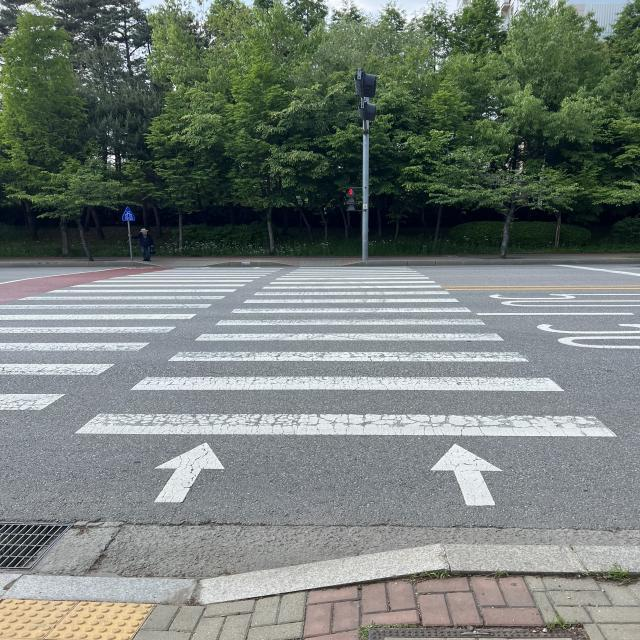crosswalk: (3, 244, 640, 563)
red-light: (340, 185, 365, 223)
